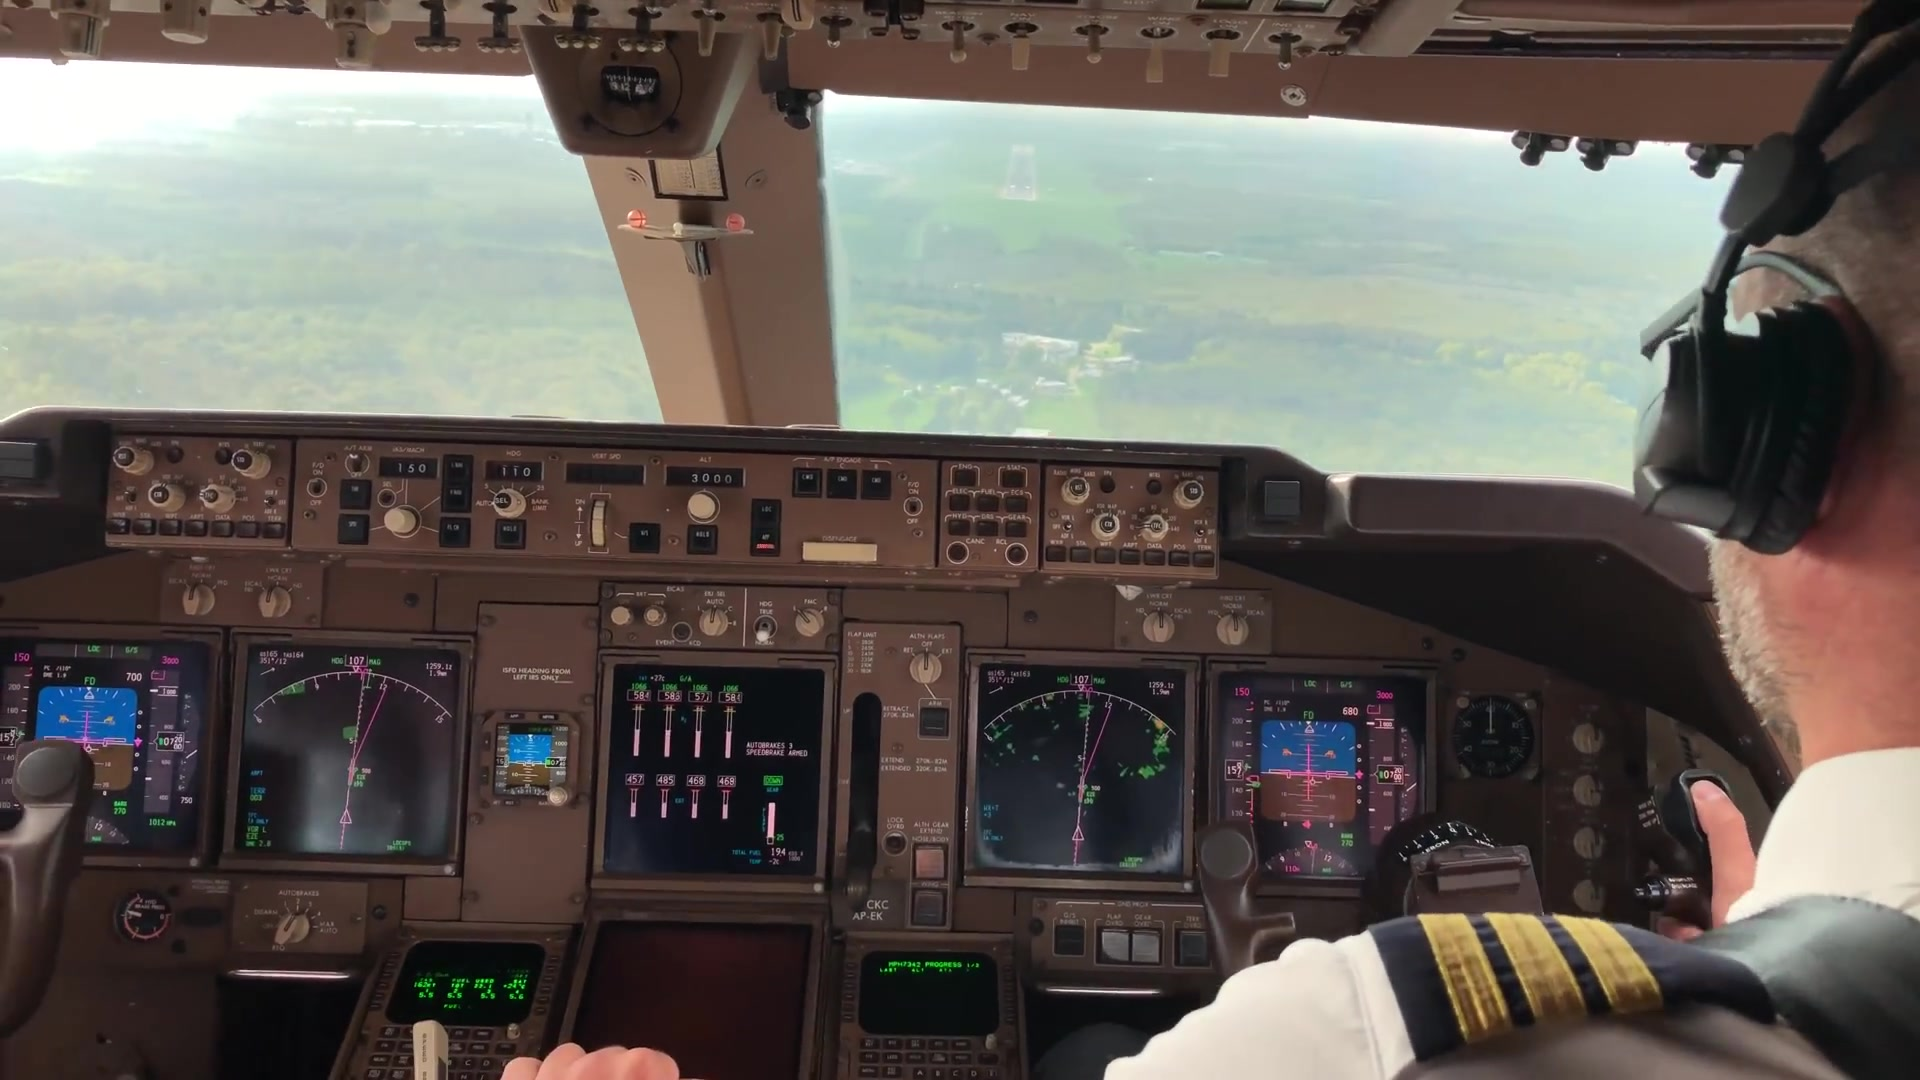runway: (994, 142, 1036, 204)
